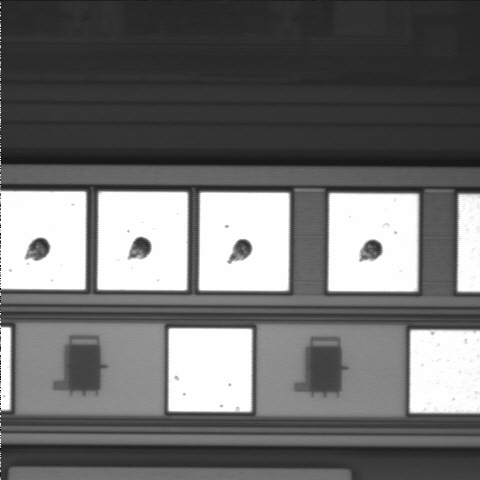pad: (199, 192, 289, 291), (98, 192, 188, 290), (328, 193, 418, 291), (169, 328, 252, 412)
